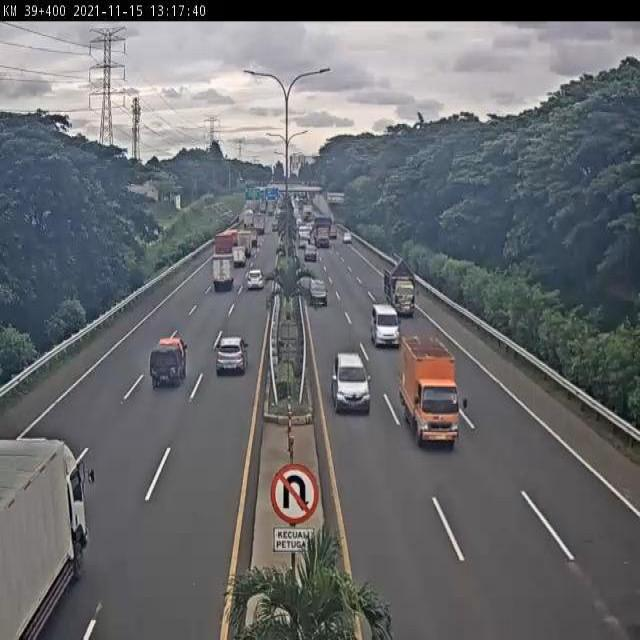car: (331, 352, 372, 412), (211, 333, 249, 380), (369, 300, 400, 345), (307, 274, 329, 310), (244, 267, 267, 293)
truck-m-: (3, 433, 93, 640), (209, 250, 237, 294)
truck-s-: (397, 337, 463, 455), (147, 330, 191, 390), (381, 256, 421, 317)
